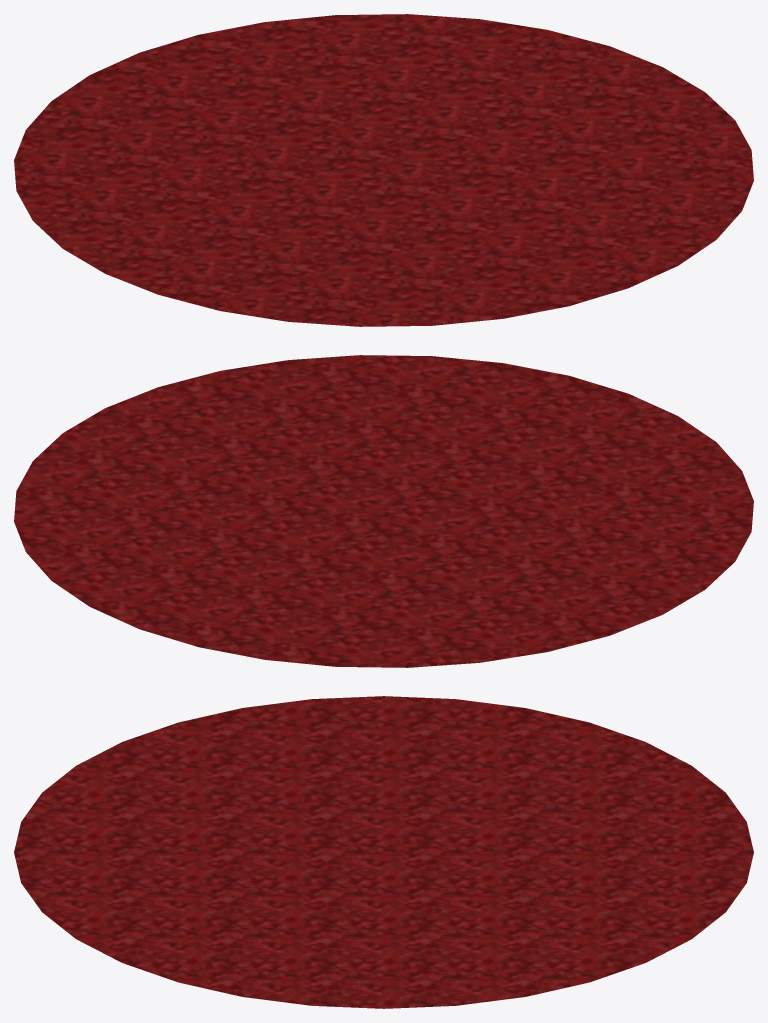
File: EnmuGround.fbx
3 renders of one model, top to bottom at view 1: azimuth 30°, elevation 25°; view 2: azimuth 150°, elevation 25°; view 3: azimuth 270°, elevation 25°, orthographic.
Parts seen in each view (by area): view 1: SM_f_301_Ground_01a.001; view 2: SM_f_301_Ground_01a.001; view 3: SM_f_301_Ground_01a.001.
Boxes of the visible parts, <box> form: SM_f_301_Ground_01a.001: <box>14,14,753,326</box>; SM_f_301_Ground_01a.001: <box>14,355,753,667</box>; SM_f_301_Ground_01a.001: <box>14,696,753,1008</box>.
Size of the model in its own units: 1020000 by 0.2878 by 1020000.
Materials: 1 (1 with a texture image).
